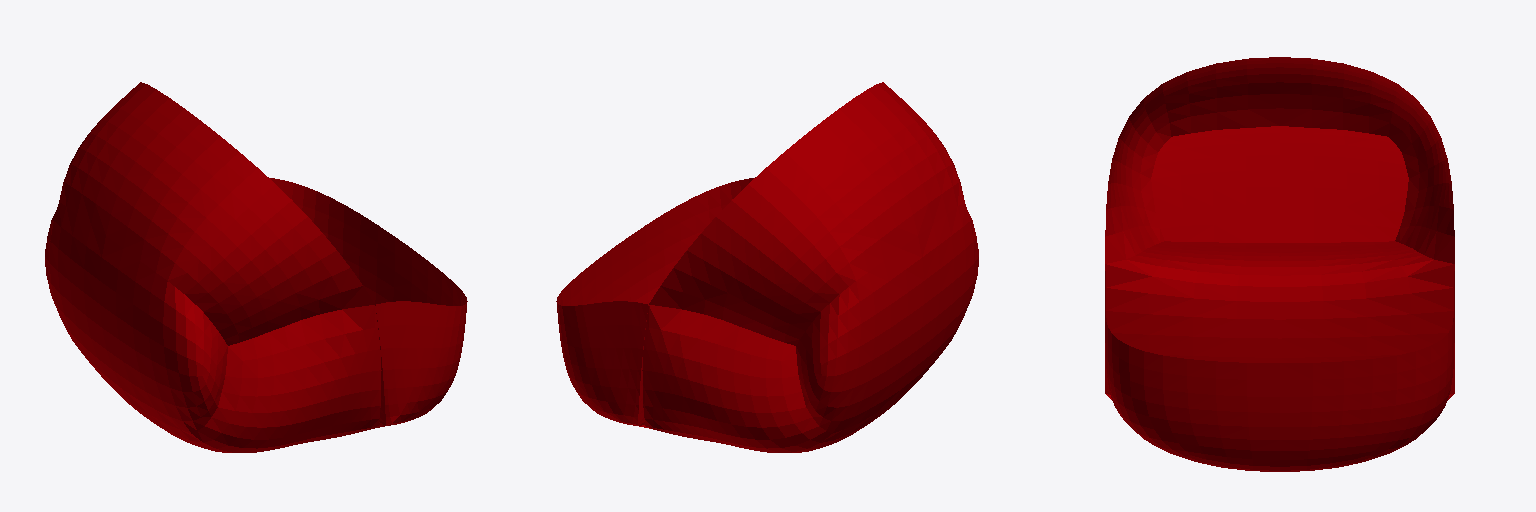
The model's file is cart.obj.
3 renders of one model, left to right at view 1: azimuth 30°, elevation 25°; view 2: azimuth 150°, elevation 25°; view 3: azimuth 270°, elevation 25°, orthographic.
Visible parts, largest first — view 1: Cube; view 2: Cube; view 3: Cube.
Part boxes in pixels (x1,y1,x2,y2): Cube: (45,82,467,452); Cube: (556,82,978,452); Cube: (1105,57,1454,471).
Size of the model in its own units: 2.07 by 2.08 by 2.